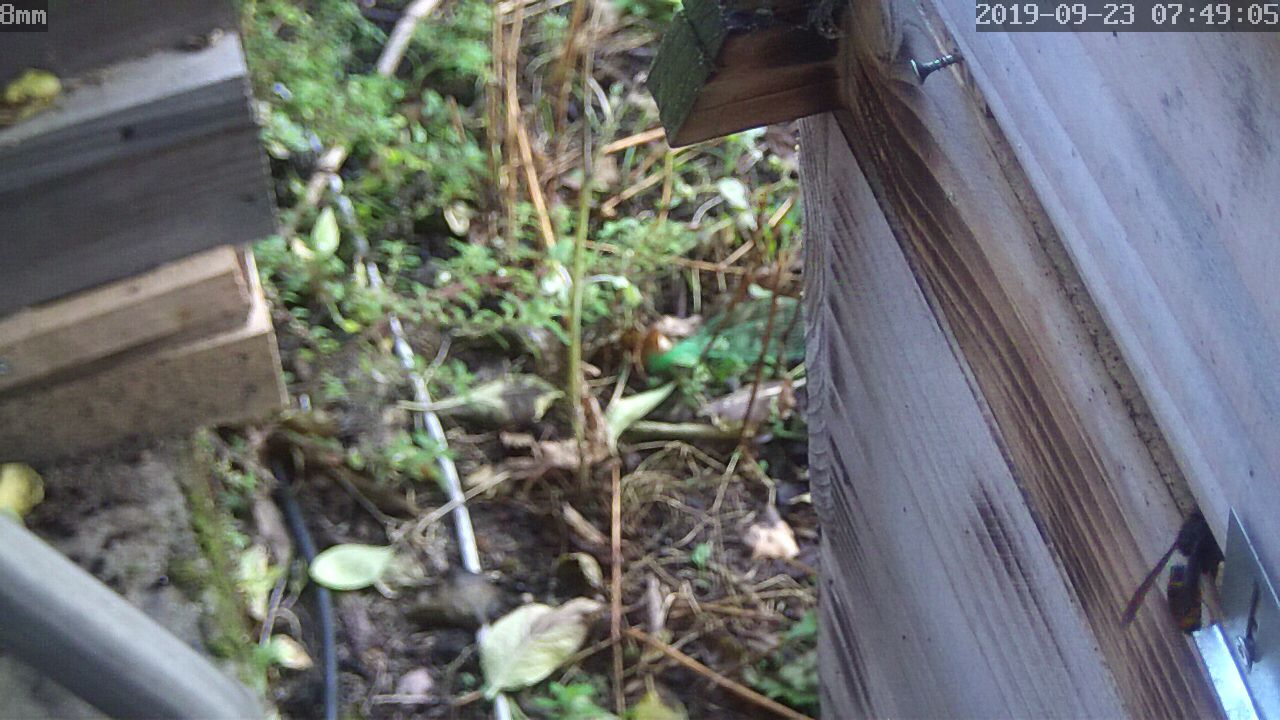hornet: (1128, 508, 1234, 657)
